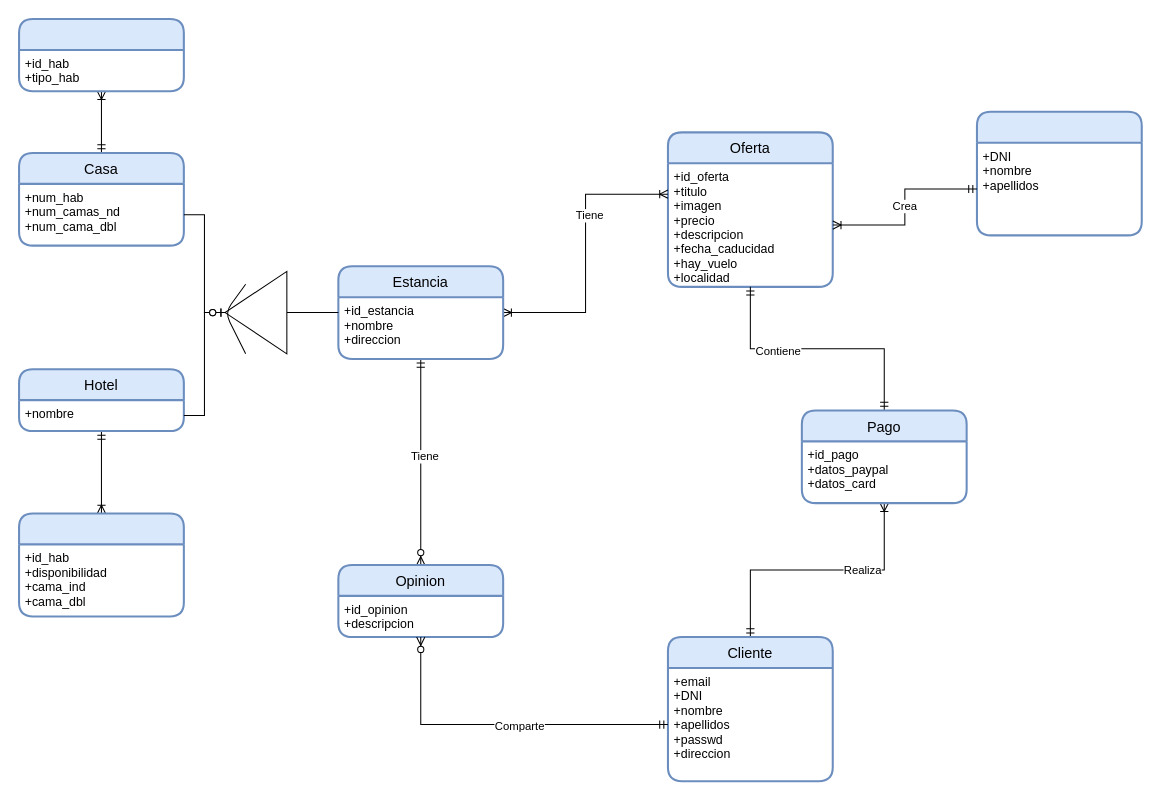
Some shapes in this 1160 by 799 pixel diagram are drawn without their labels. The box of each missing label's shape, as (x1, y1, x2, y2) in pixels:
Habitaciones_casa: (18, 18, 184, 92)
Habitaciones_hotel: (18, 512, 184, 617)
Personal: (975, 110, 1142, 236)
